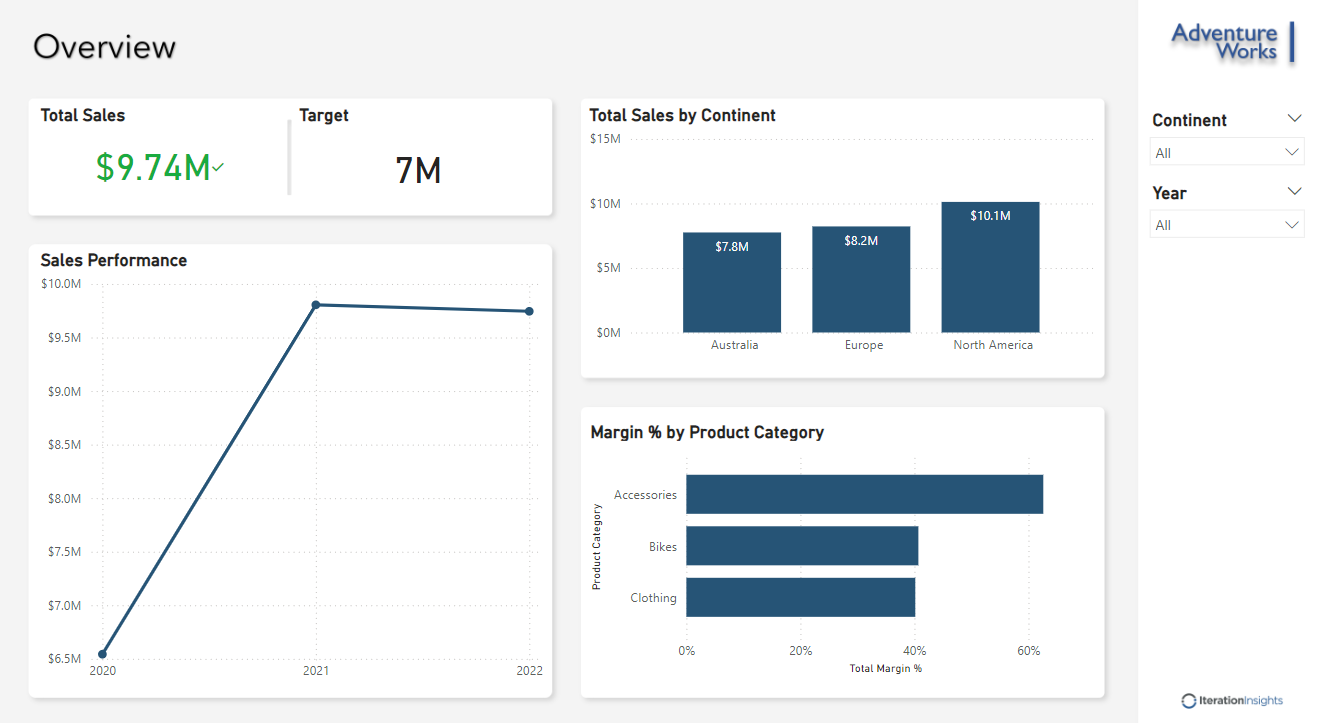

The dashboard page shown, as its layout file describes it:
{"tool":"powerbi","page":{"name":"Overview","canvas":[1280,720],"ordinal":0},"visuals":[{"type":"clusteredColumnChart","title":"Total Sales by Continent","fields":{"Category":["Sales Territory.Sales Territory Continent"],"Y":["Sales.Total Sales"]},"box":[570,115,500,250],"z":0},{"type":"clusteredBarChart","title":"Margin % by Product Category","fields":{"Category":["Product.Product Hierarchy.Product Category","Product.Product Hierarchy.Product Subcategory"],"Y":["Sales.Total Margin %"]},"box":[570.3,420,500,250],"z":1000},{"type":"lineChart","title":"Sales Performance","fields":{"Y":["Sales.Total Sales"],"Category":["Order Date.Order Date Hierarchy.Order Date Year","Order Date.Order Date Hierarchy.Order Date Month","Order Date.Order Date Hierarchy.Order Date"]},"box":[40,255,495,425],"z":2000},{"type":"kpi","title":"Total Sales","fields":{"Indicator":["Sales.Total Sales"],"TrendLine":["Order Date.Order Date Year"],"Goal":["Sales.Target"]},"box":[40.4,115,240,100],"z":3000},{"type":"card","title":"Target","fields":{"Values":["Sales.Target"]},"box":[290,115,240,100],"z":4000},{"type":"slicer","title":"Slicer Continent","fields":{"Values":["Sales Territory.Sales Territory Continent"]},"box":[1105,115,170,70],"z":5000},{"type":"slicer","title":"Slicer Year","fields":{"Values":["Order Date.Order Date Year"]},"box":[1105,185,170,70],"z":6000}]}

Visuals, with their boxes in screenshot pixels (x1, y1, x2, y2), scaled from the page's 1280x720 canvas onto the 1317x723 screenshot:
"Total Sales by Continent" clusteredColumnChart: rect(586, 115, 1101, 367)
"Margin % by Product Category" clusteredBarChart: rect(587, 422, 1101, 673)
"Sales Performance" lineChart: rect(41, 256, 550, 683)
"Total Sales" kpi: rect(42, 115, 289, 216)
"Target" card: rect(298, 115, 545, 216)
"Slicer Continent" slicer: rect(1137, 115, 1312, 186)
"Slicer Year" slicer: rect(1137, 186, 1312, 256)
